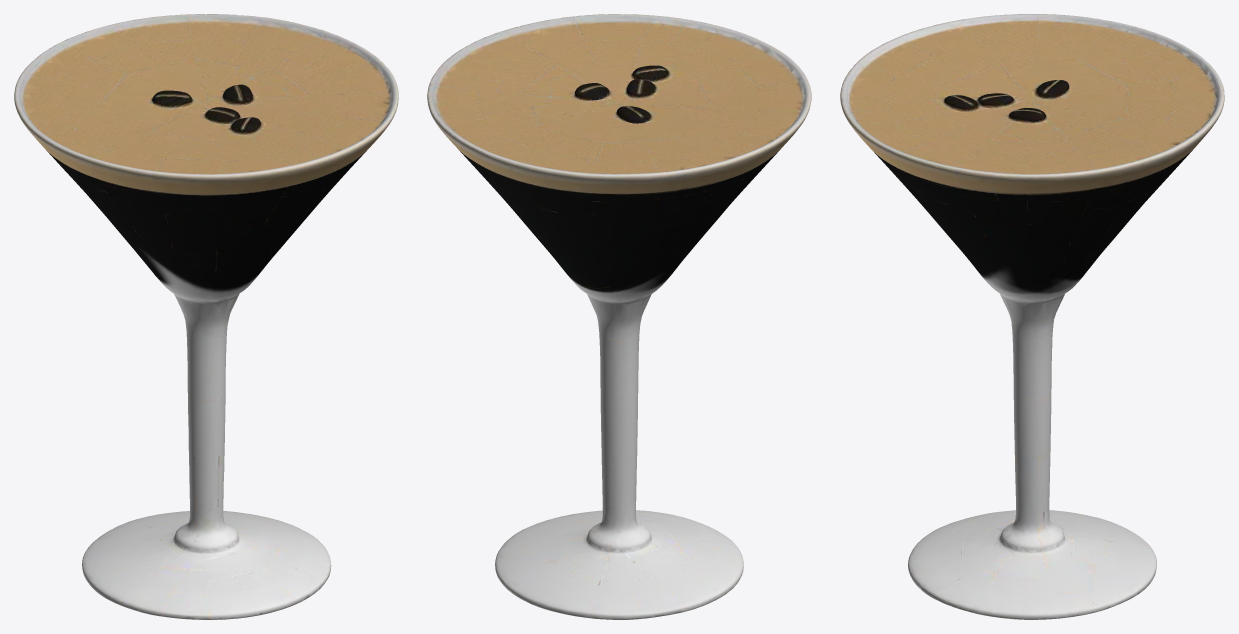
Rendered from espresso-martini.glb.
3 renders of one model, left to right at view 1: azimuth 30°, elevation 25°; view 2: azimuth 150°, elevation 25°; view 3: azimuth 270°, elevation 25°, orthographic.
Visible parts, largest first — view 1: mesh_node; view 2: mesh_node; view 3: mesh_node.
Boxes of the visible parts, x1,y1,x2,y2 form: mesh_node: (14,14,398,619); mesh_node: (427,14,811,619); mesh_node: (840,14,1224,619).
Bounding box in the file's own units: 0.0882 × 0.12 × 0.0881.
1 material, 1 textured.
